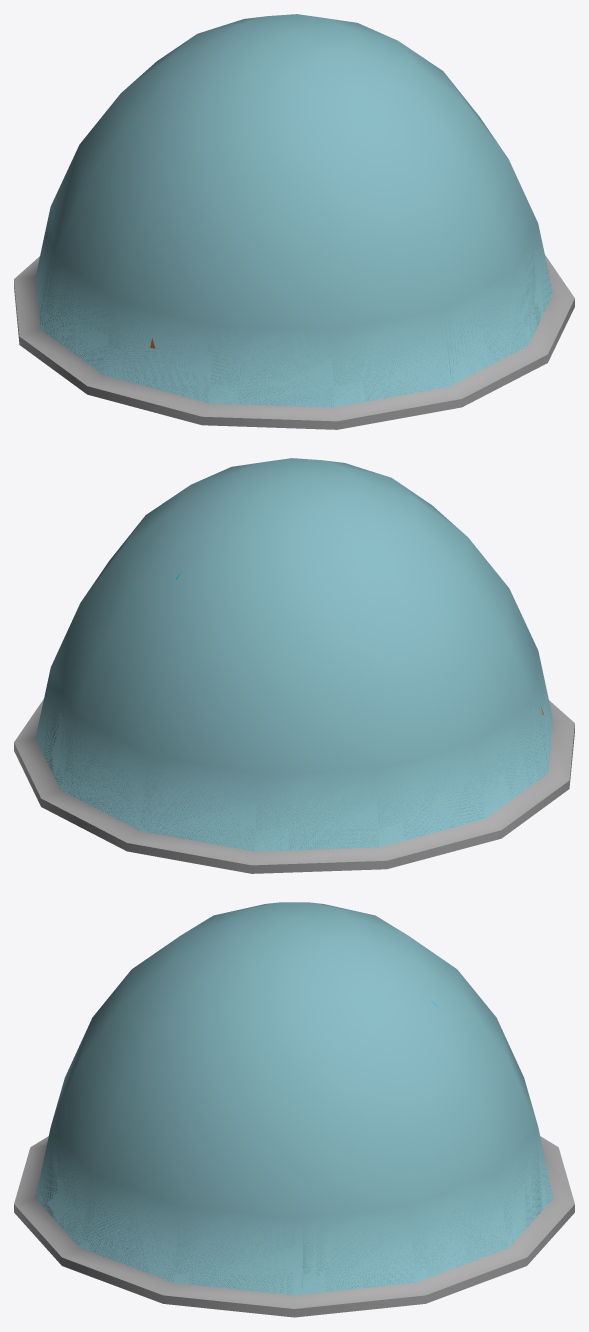
The model's file is world3_fbx.fbx.
3 views of the same model, one above another, from view 1: azimuth 30°, elevation 25°; view 2: azimuth 150°, elevation 25°; view 3: azimuth 270°, elevation 25° (orthographic).
Parts seen in each view (by area): view 1: world3, col; view 2: world3, col; view 3: world3, col.
Boxes of the visible parts, x1=… form: world3: x1=14, y1=14, x2=574, y2=429; col: x1=37, y1=14, x2=552, y2=407; world3: x1=14, y1=458, x2=574, y2=873; col: x1=36, y1=458, x2=552, y2=850; world3: x1=14, y1=902, x2=574, y2=1317; col: x1=36, y1=902, x2=552, y2=1294.
Size of the model in its own units: 69.72 by 38.52 by 70.23.
